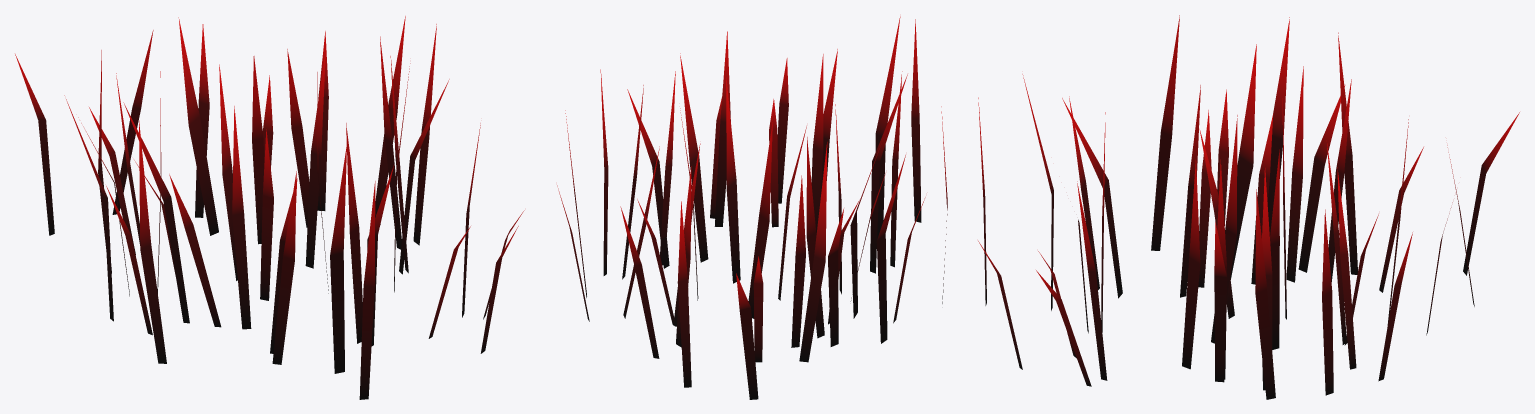
File: PatchGrassTall02.fbx
The picture shows the model from 3 angles, left to right: view 1: azimuth 30°, elevation 25°; view 2: azimuth 150°, elevation 25°; view 3: azimuth 270°, elevation 25°; orthographic projection. The views are drawn at different scales.
Parts seen in each view (by area): view 1: PatchGrassTall02_LOD0; view 2: PatchGrassTall02_LOD0; view 3: PatchGrassTall02_LOD0.
Part boxes in pixels (left/top/right/bottom): PatchGrassTall02_LOD0: left=15, top=16, right=524, bottom=399; PatchGrassTall02_LOD0: left=557, top=16, right=947, bottom=399; PatchGrassTall02_LOD0: left=978, top=15, right=1519, bottom=399.
Size of the model in its own units: 133 by 86.77 by 180.
